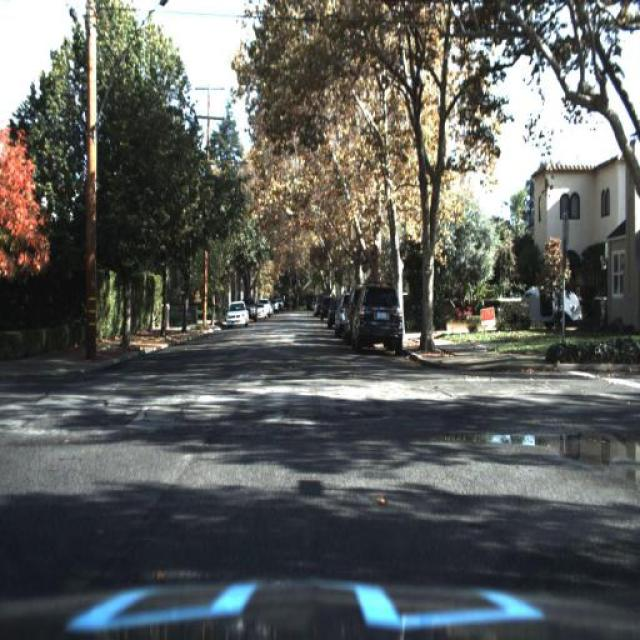car: (354, 275, 405, 357), (519, 275, 586, 331), (221, 298, 250, 328), (226, 299, 250, 330), (254, 304, 268, 325)
